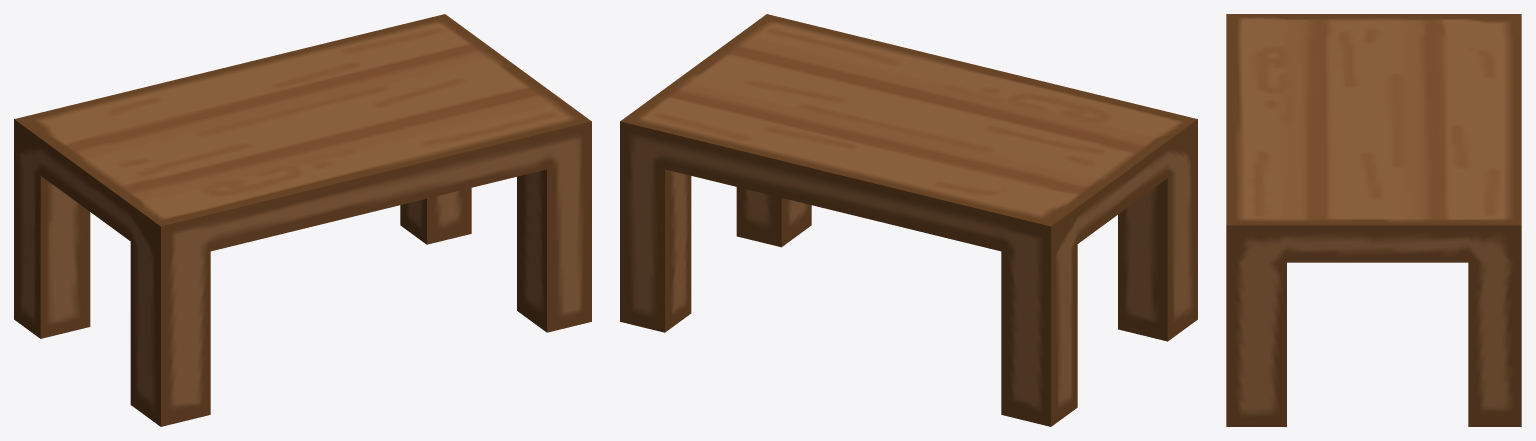
File: coffee table.fbx
The picture shows the model from 3 angles, left to right: view 1: azimuth 30°, elevation 25°; view 2: azimuth 150°, elevation 25°; view 3: azimuth 270°, elevation 25°; orthographic projection.
Parts seen in each view (by area): view 1: pCube3; view 2: pCube3; view 3: pCube3.
Boxes of the visible parts, x1,y1,x2,y2 form: pCube3: (14, 14, 591, 426); pCube3: (620, 14, 1197, 426); pCube3: (1226, 14, 1521, 426).
Size of the model in its own units: 3.06 by 1.36 by 1.8.
